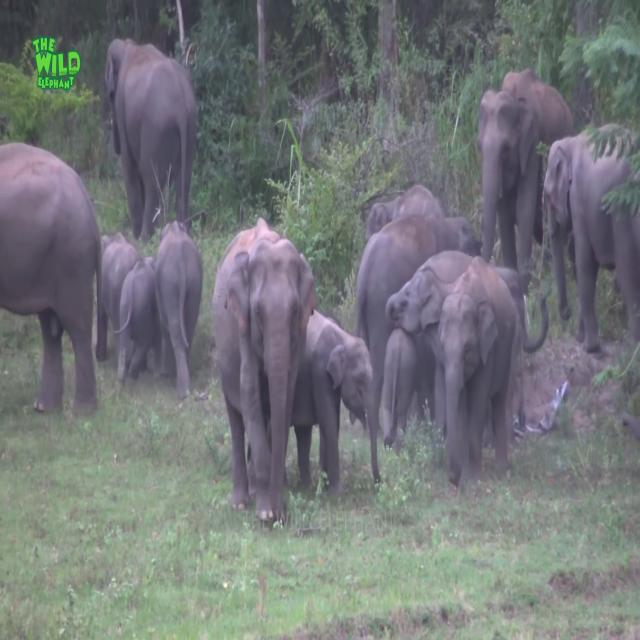Elephant: (211, 216, 318, 524), (0, 140, 105, 416), (257, 308, 381, 498), (541, 122, 640, 353), (476, 67, 575, 296), (437, 256, 521, 488), (104, 36, 198, 243), (154, 219, 203, 400), (114, 256, 162, 388), (95, 231, 140, 364), (364, 183, 444, 245)
